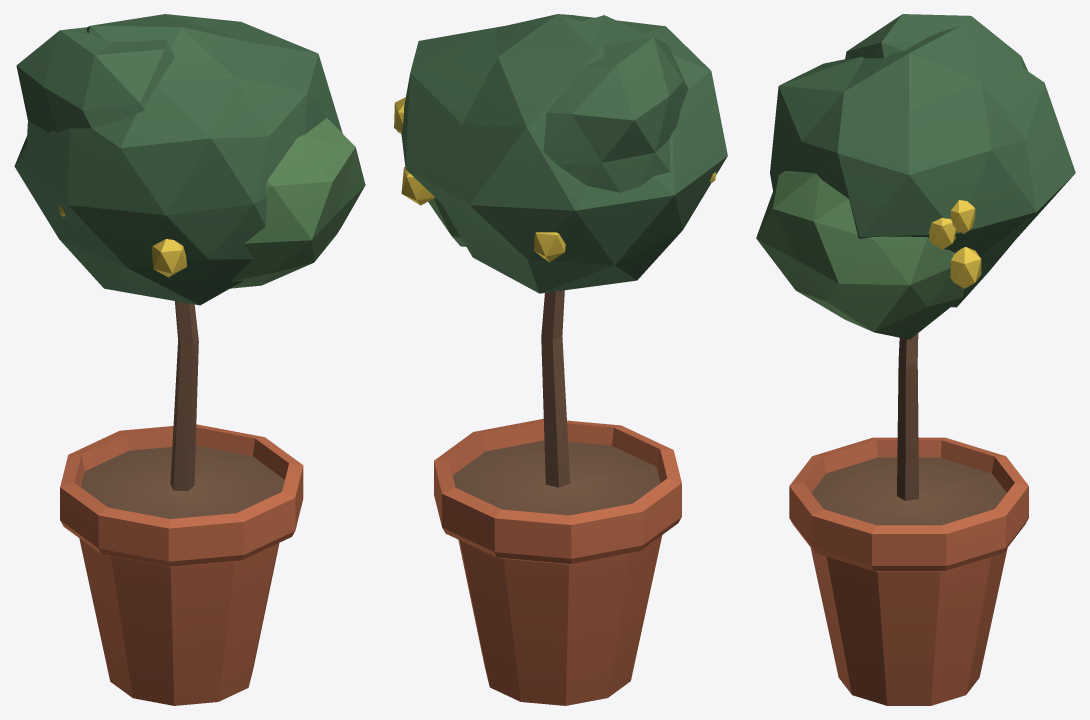
File: planter_pot.glb
The picture shows the model from 3 angles, left to right: view 1: azimuth 30°, elevation 25°; view 2: azimuth 150°, elevation 25°; view 3: azimuth 270°, elevation 25°; orthographic projection. The views are drawn at different scales.
Visible parts, largest first — view 1: planter_pot.001; view 2: planter_pot.001; view 3: planter_pot.001.
Part boxes in pixels (box(x1,y1,x2,y2)): planter_pot.001: box(14, 14, 365, 705); planter_pot.001: box(394, 14, 727, 705); planter_pot.001: box(756, 14, 1075, 705).
Size of the model in its own units: 0.9204 by 1.95 by 0.9073.
1 material, 1 textured.
